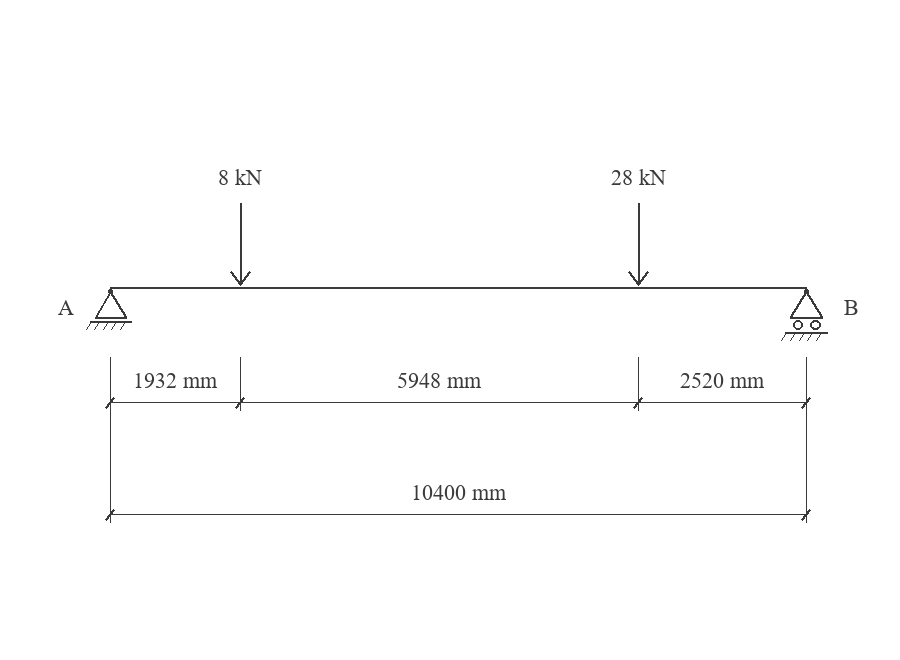pin_support: (86, 289, 132, 330)
point_load: (230, 203, 251, 286), (628, 203, 649, 286)
roller_support: (781, 289, 828, 341)
